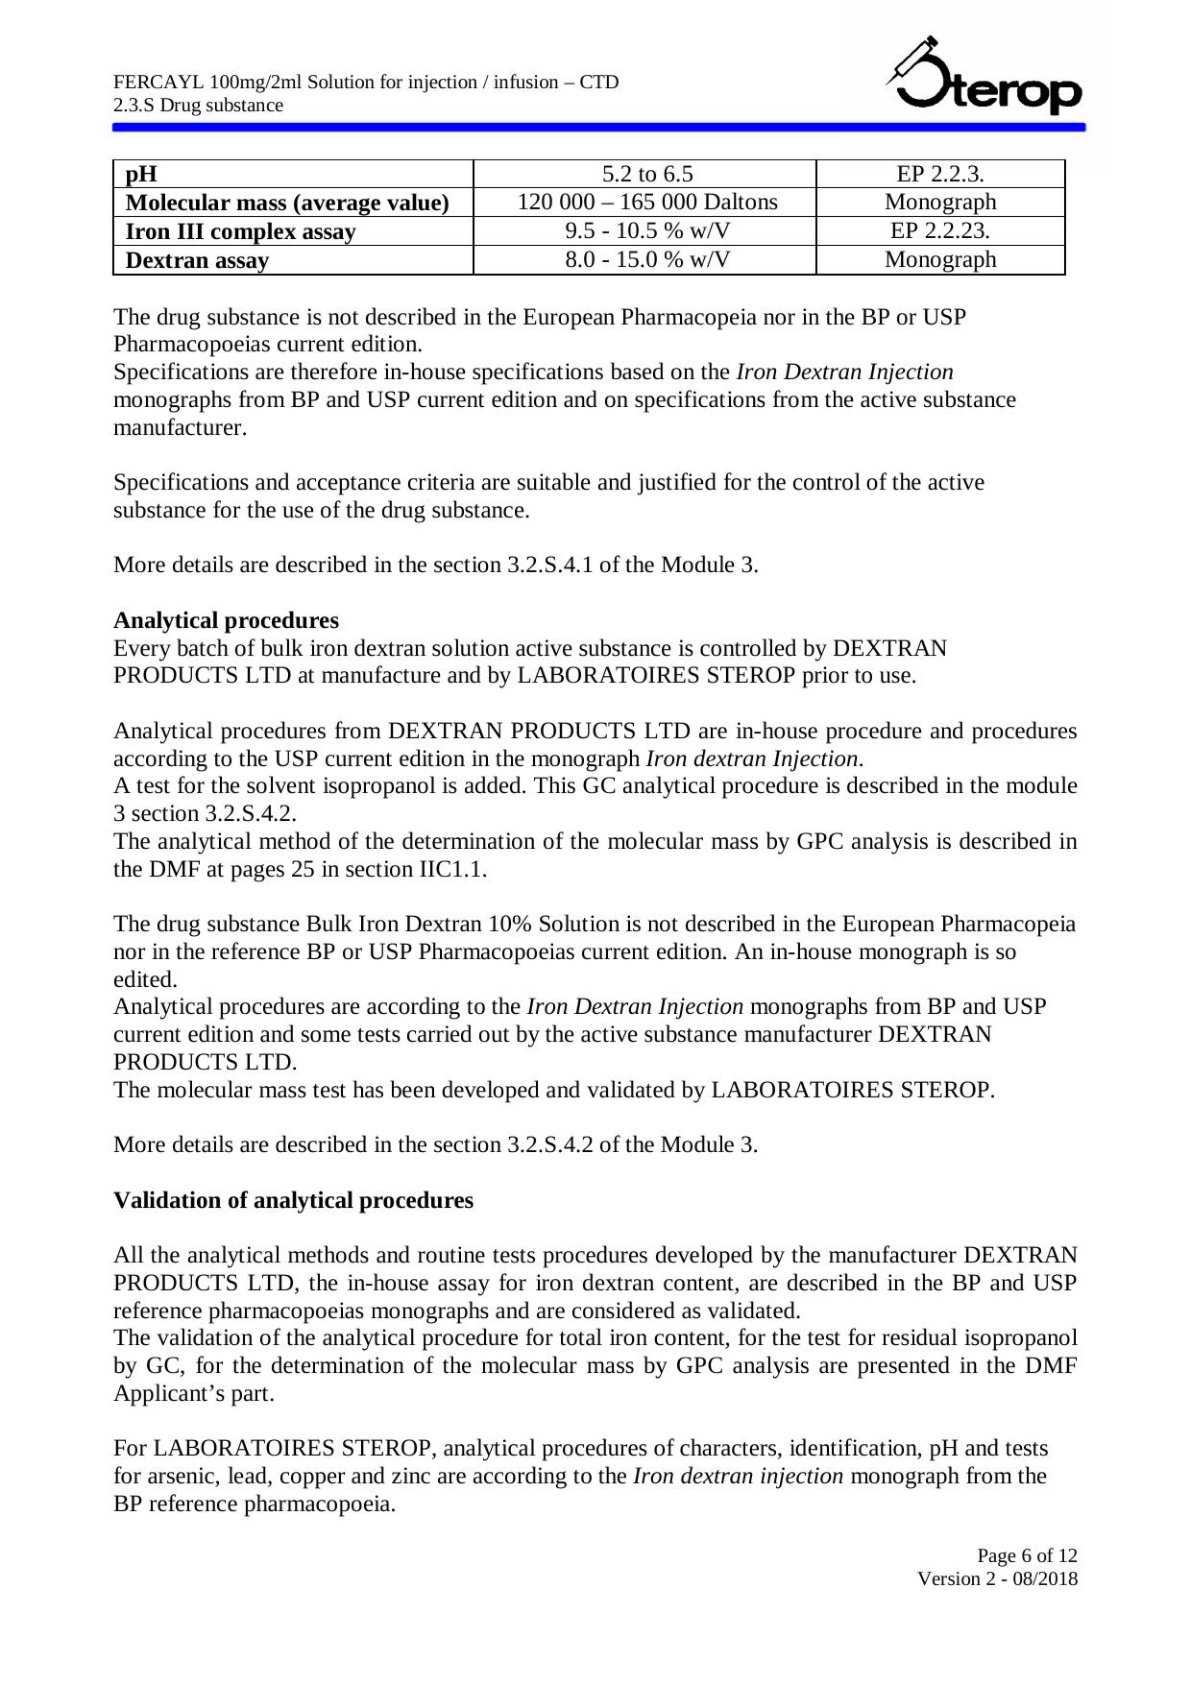full_lined: (112, 159, 1067, 276)
